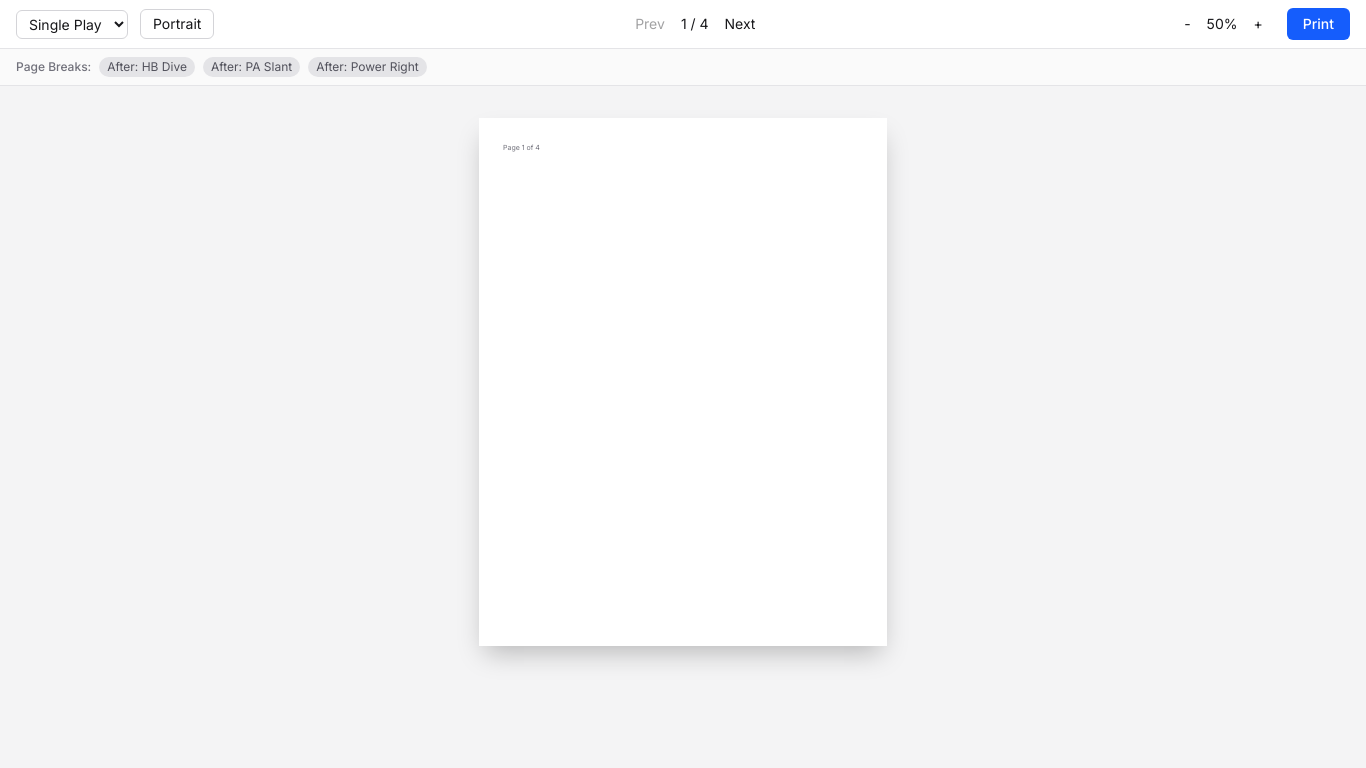
Test: PrintPreviewAdvanced › navigates to next and previous page
What coordinates should you click on to do the following:
click the button with test id "next-page-btn"
I would click on:
 (740, 24)
Its box is x1=716 y1=10 x2=763 y2=38.
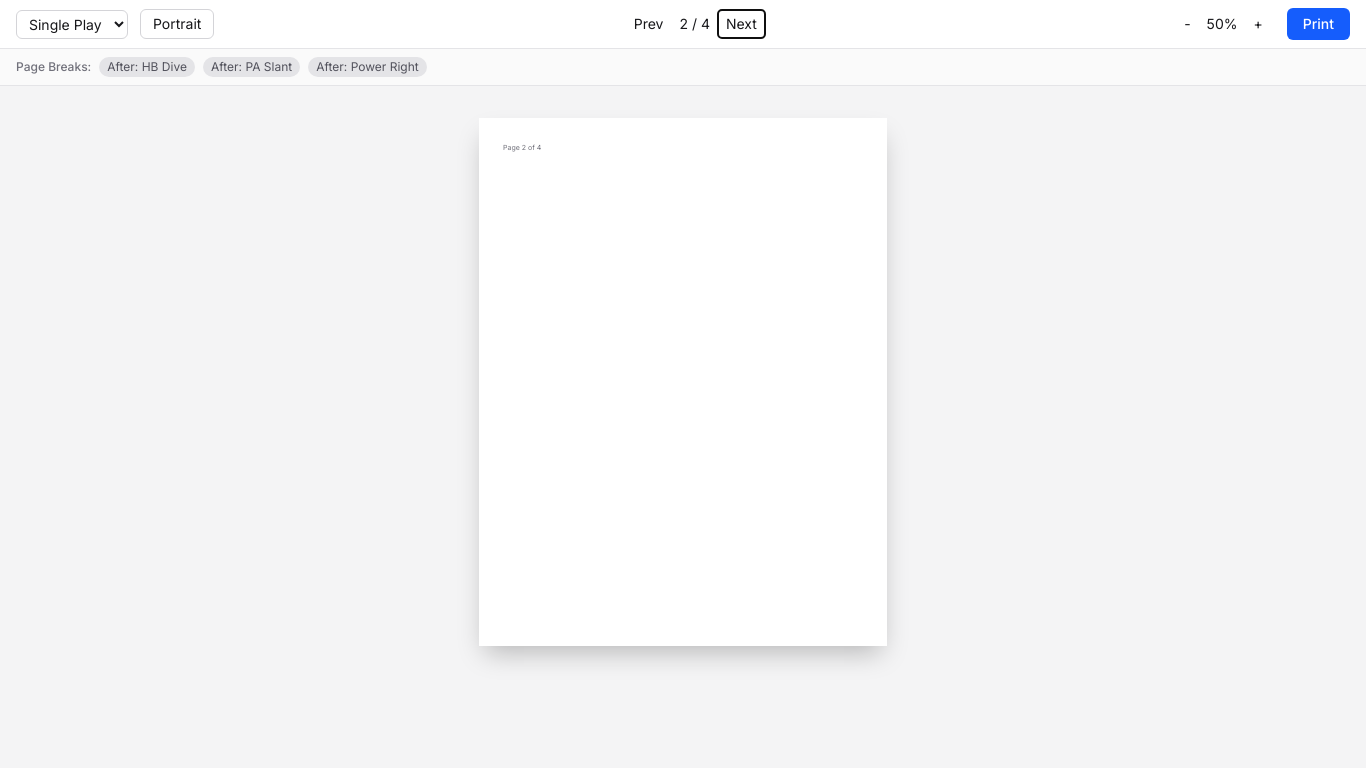
Now the text with test id "page-count" shows "2 /", box x1=680 y1=15 x2=710 y2=32
What coordinates should you click on to do the following:
click the button with test id "prev-page-btn"
I would click on:
 (649, 24)
Its box is x1=626 y1=10 x2=672 y2=38.
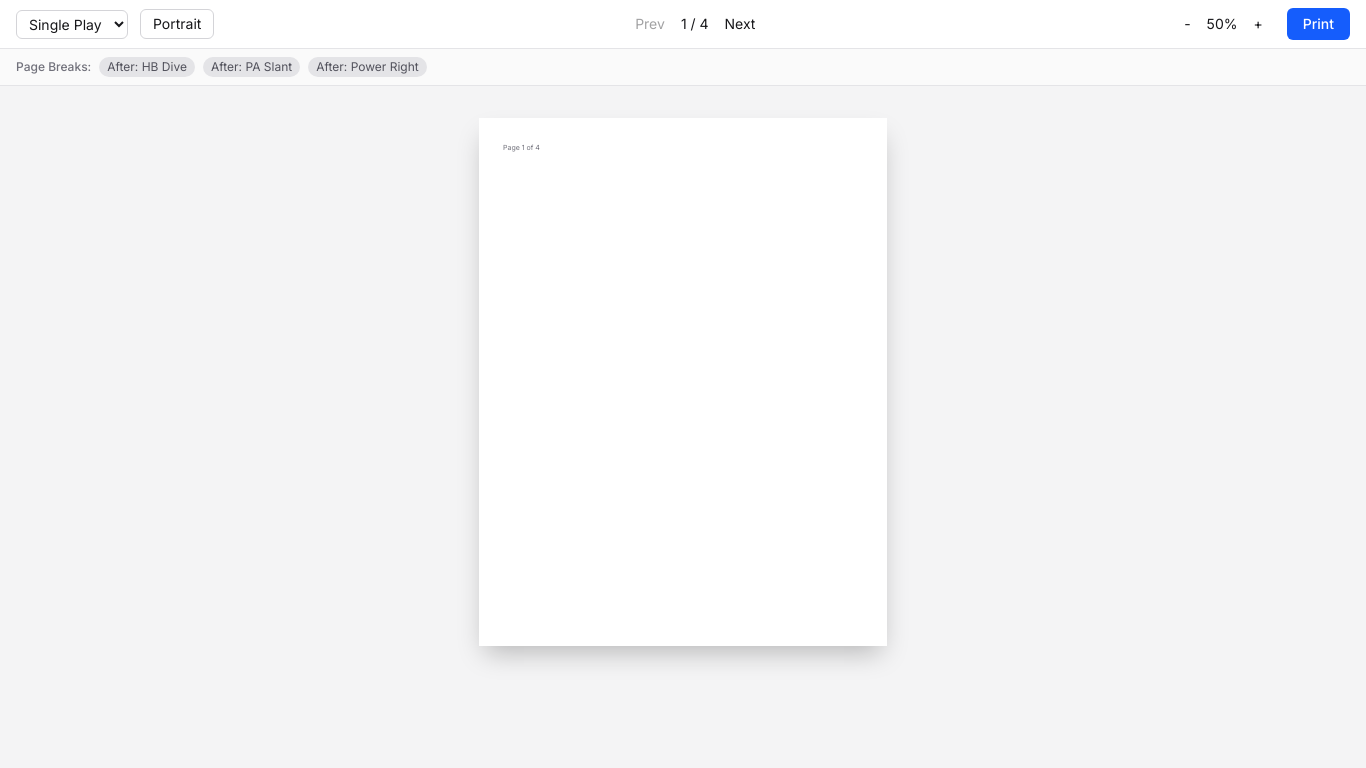
Now the text with test id "page-count" shows "1 /", box x1=681 y1=15 x2=709 y2=32
